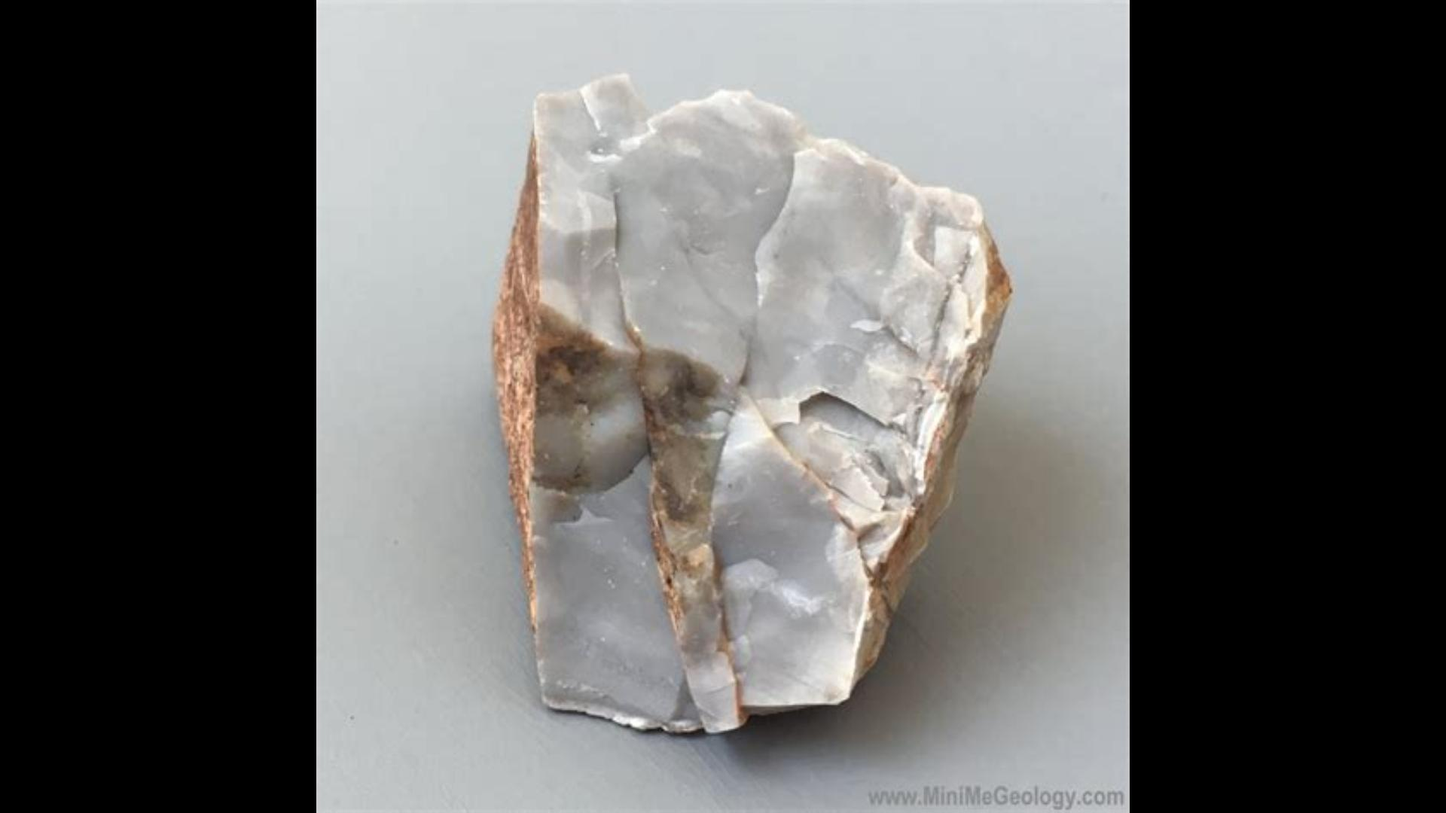rock: (498, 77, 1006, 731)
